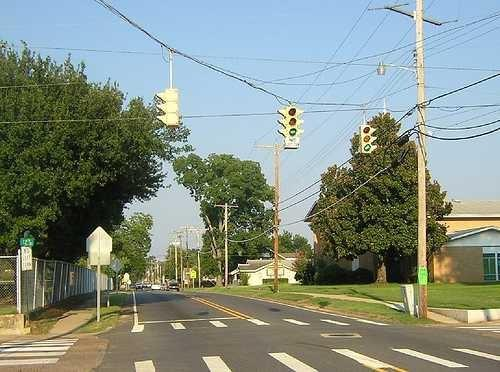green: (285, 104, 300, 146), (361, 124, 373, 155), (286, 127, 299, 138), (362, 143, 373, 153)
